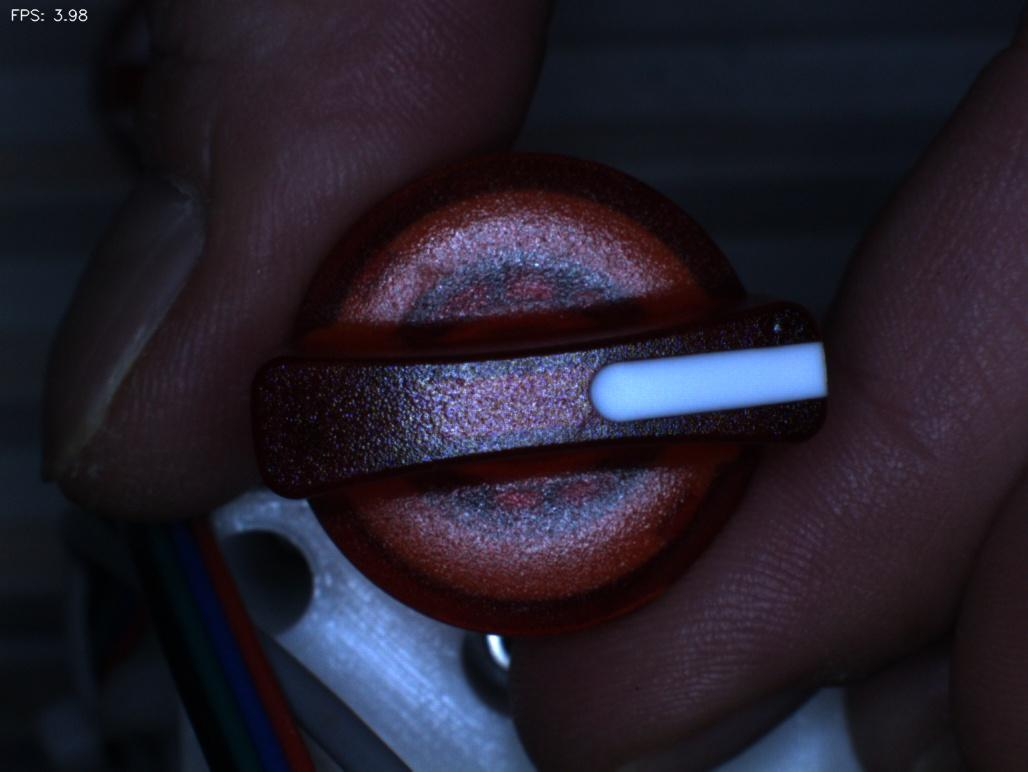Choc: (730, 275, 808, 359)
